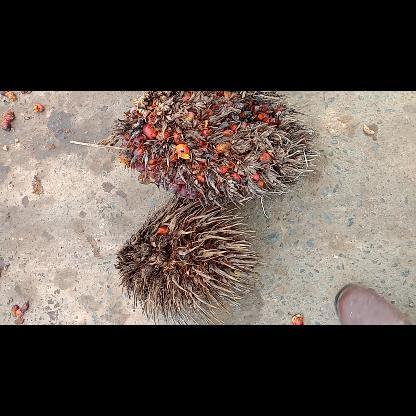Janjang kosong: (115, 196, 266, 324)
Terlalu masak: (72, 90, 318, 209)
